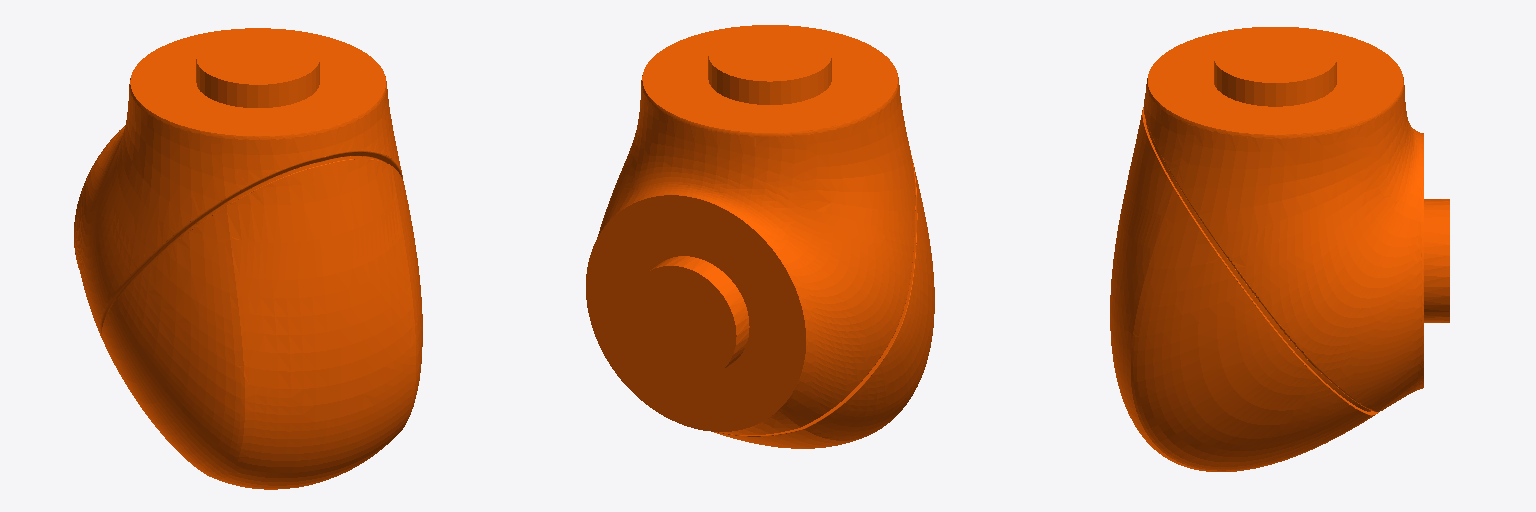
File: link_6_vis.obj
3 views of the same model, side by side, from view 1: azimuth 30°, elevation 25°; view 2: azimuth 150°, elevation 25°; view 3: azimuth 270°, elevation 25° (orthographic).
Visible parts, largest first — view 1: Link_6_Vis; view 2: Link_6_Vis; view 3: Link_6_Vis.
Part boxes in pixels (x1,y1,x2,y2): Link_6_Vis: (74, 28, 422, 489); Link_6_Vis: (586, 25, 934, 448); Link_6_Vis: (1110, 27, 1449, 471).
Bounding box in the file's own units: 0.1323 × 0.1774 × 0.1374.